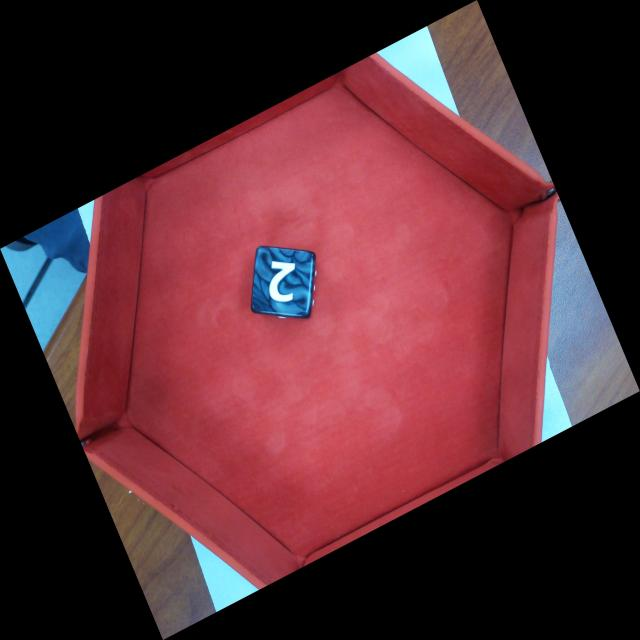dice: (249, 245, 317, 320)
